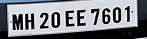0: (112, 5, 122, 24), (51, 11, 61, 29)
1: (124, 5, 133, 23)
2: (39, 11, 50, 29)
6: (101, 7, 111, 25)
7: (90, 7, 101, 26)
E: (75, 9, 88, 27), (65, 9, 76, 27)
H: (24, 12, 37, 30)
M: (12, 13, 24, 31)
